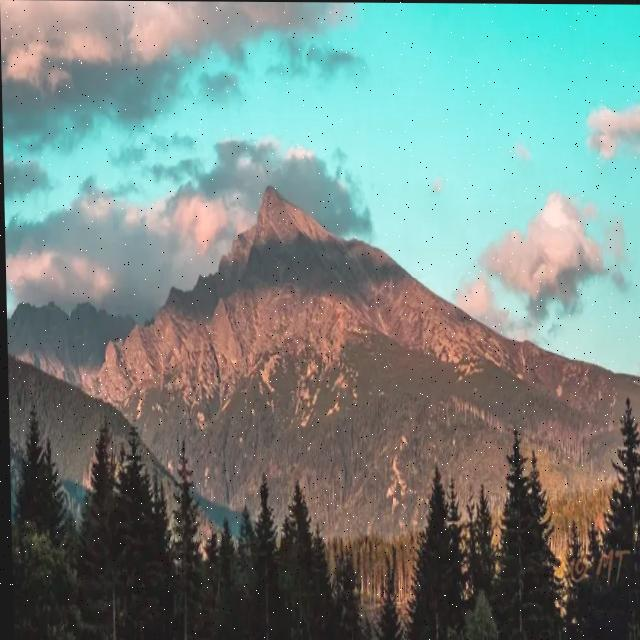Krivan: (189, 95, 352, 285)
